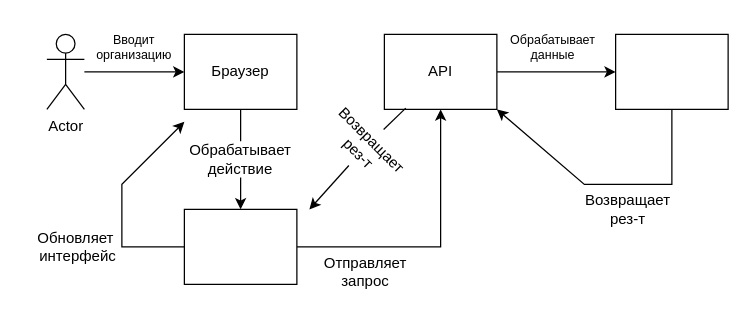
Some shapes in this 750 by 318 pixel diagram are drawn without their labels. The box of each missing label's shape, as (x1, y1, x2, y2) in pixels:
JavaScript: (183, 208, 297, 284)
Хранилище: (614, 33, 728, 109)
